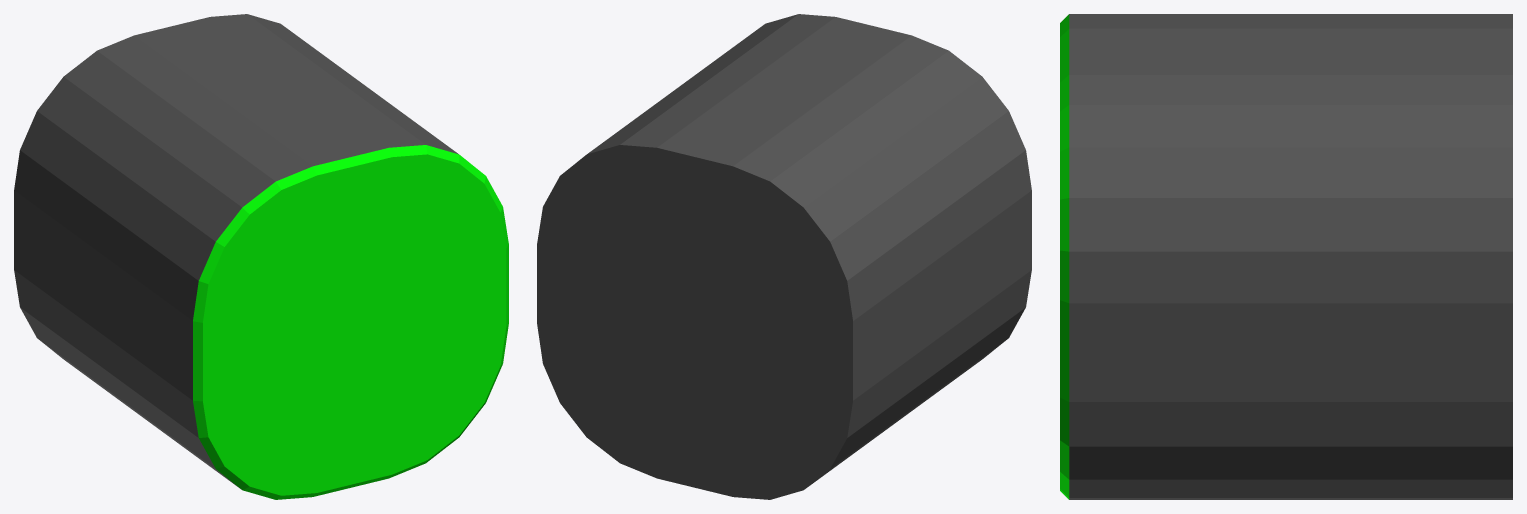
Rendered from center.glb.
3 views of the same model, side by side, from view 1: azimuth 30°, elevation 25°; view 2: azimuth 150°, elevation 25°; view 3: azimuth 270°, elevation 25° (orthographic). The views are drawn at different scales.
Parts seen in each view (by area): view 1: center; view 2: center; view 3: center.
Part boxes in pixels (box(x1,y1,x2,y2)): center: box(14, 14, 508, 499); center: box(537, 14, 1031, 499); center: box(1060, 14, 1512, 499).
Bounding box in the file's own units: 1 × 1 × 1.
